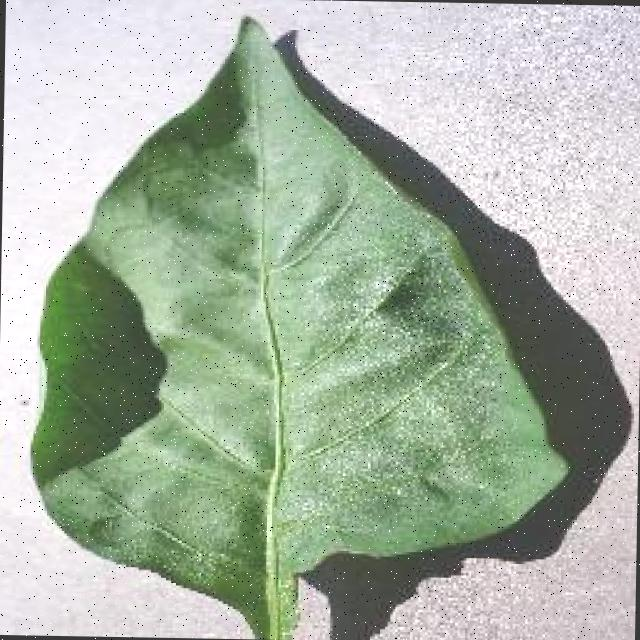Leaf: (21, 16, 588, 624)
